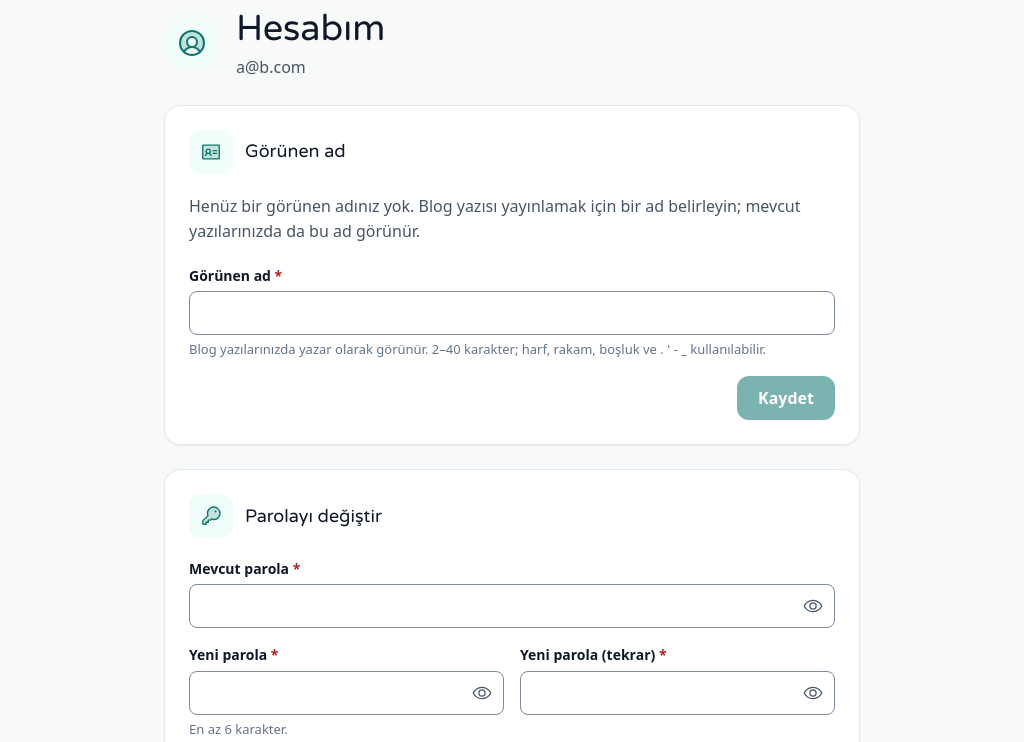
Test: Account › does not submit when the new passwords do not match
The image size is (1024, 742).
Expected: the heading "Hesabım" is shown, [236,6,385,51]
Step 1. Type "old-pass" into the password field labelled "Mevcut parola *" → (512, 606), box [189,584,835,628]
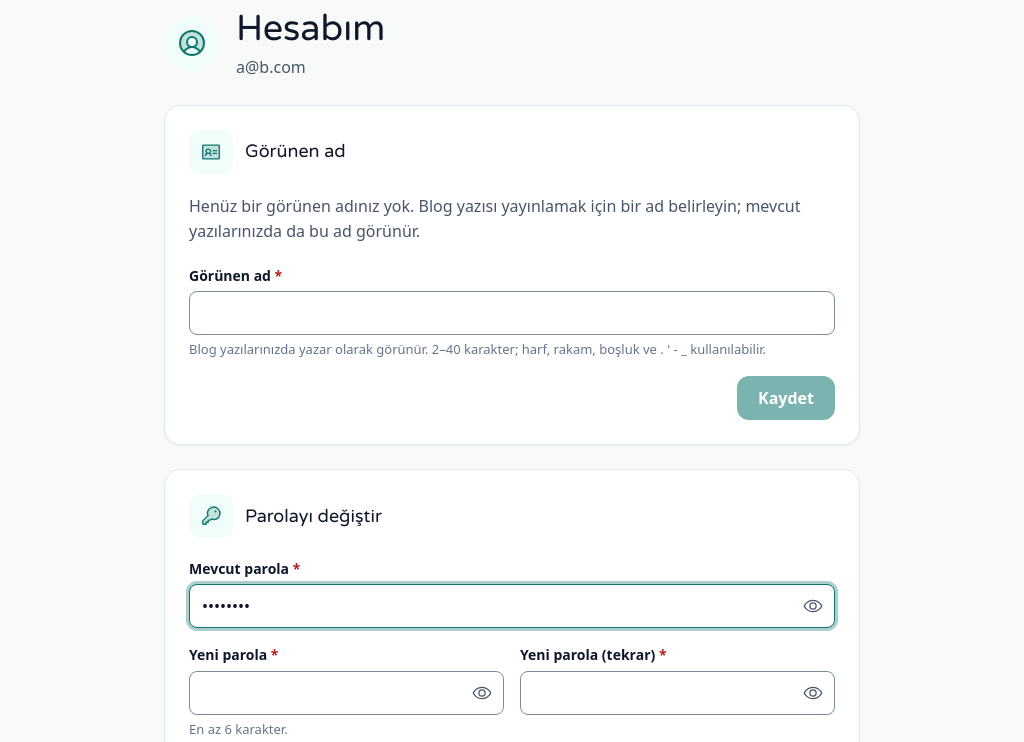
Step 2. Type "new-pass" into the password field labelled "Yeni parola *" → (346, 693), box [189,671,504,715]
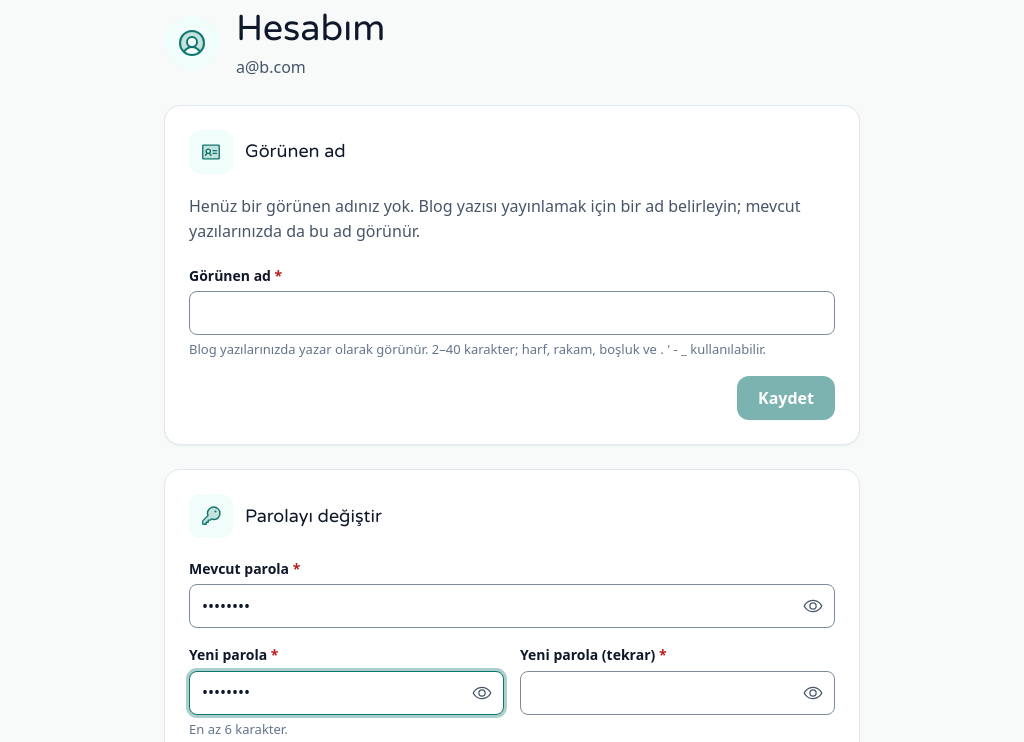
Step 3. Type "other" into the password field labelled "Yeni parola (tekrar) *" → (678, 693), box [520,671,835,715]
(page scrolled)
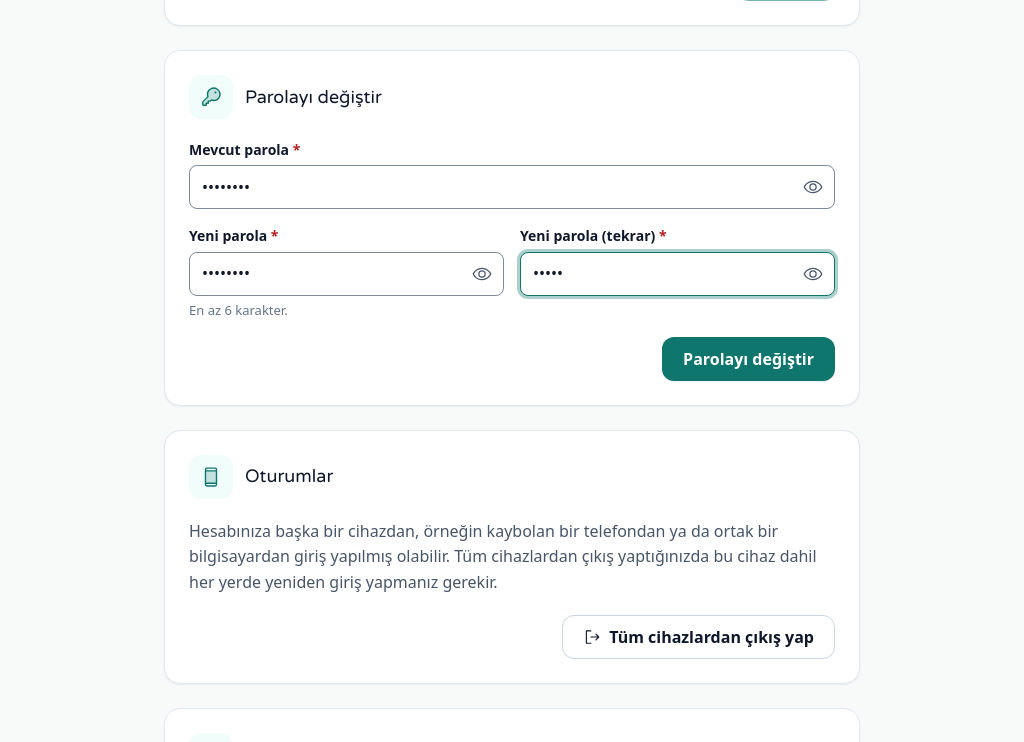
Step 4. Click the button "Parolayı değiştir" → (749, 358), box [662,336,835,380]
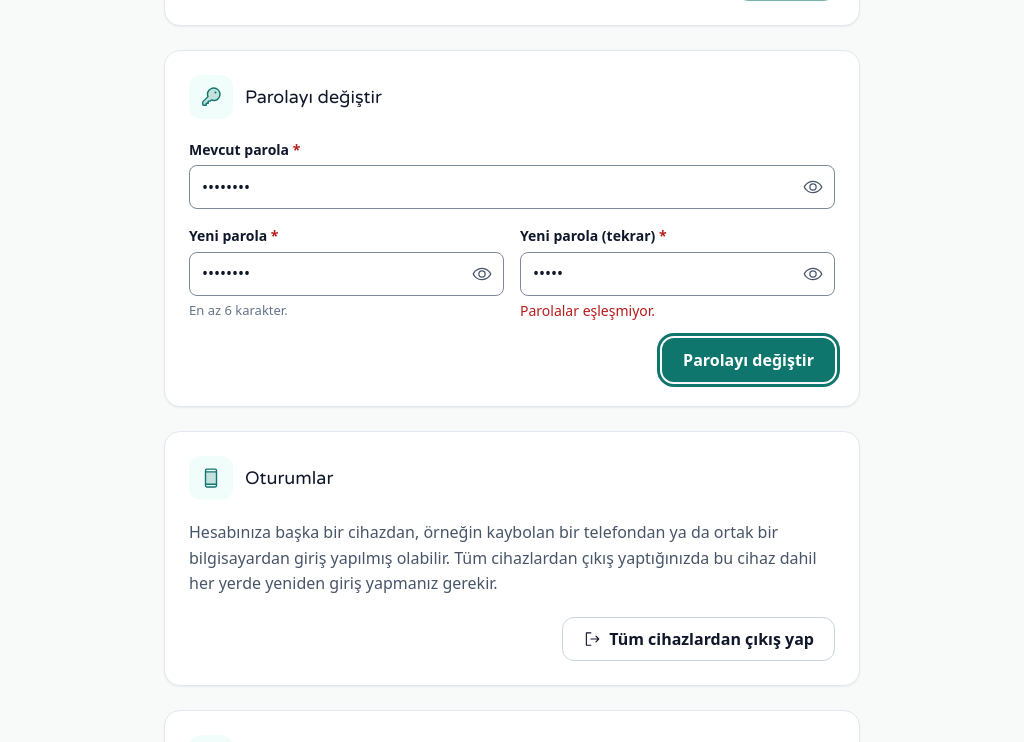
Expected: the text "Parolalar eşleşmiyor." is shown, [520,301,655,320]
